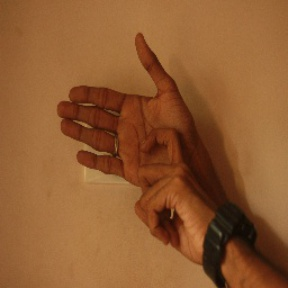R: (57, 29, 207, 242)
